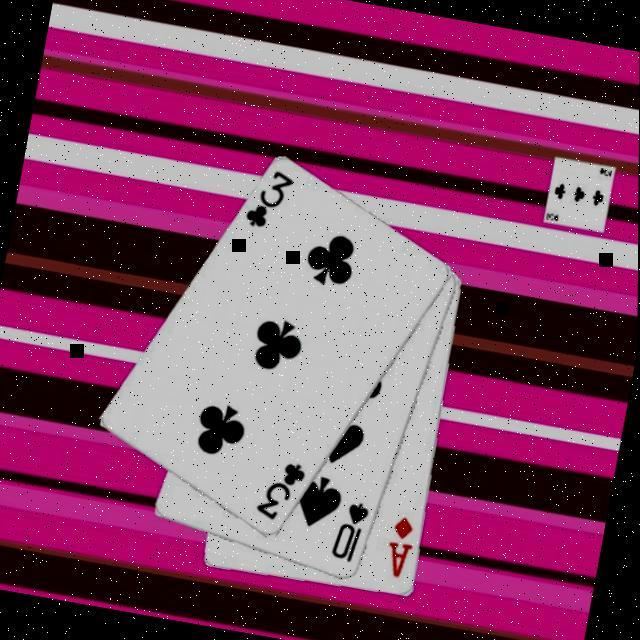10S: (329, 496, 376, 566)
3C: (252, 454, 312, 526), (241, 162, 299, 234)
AD: (382, 511, 422, 582)
